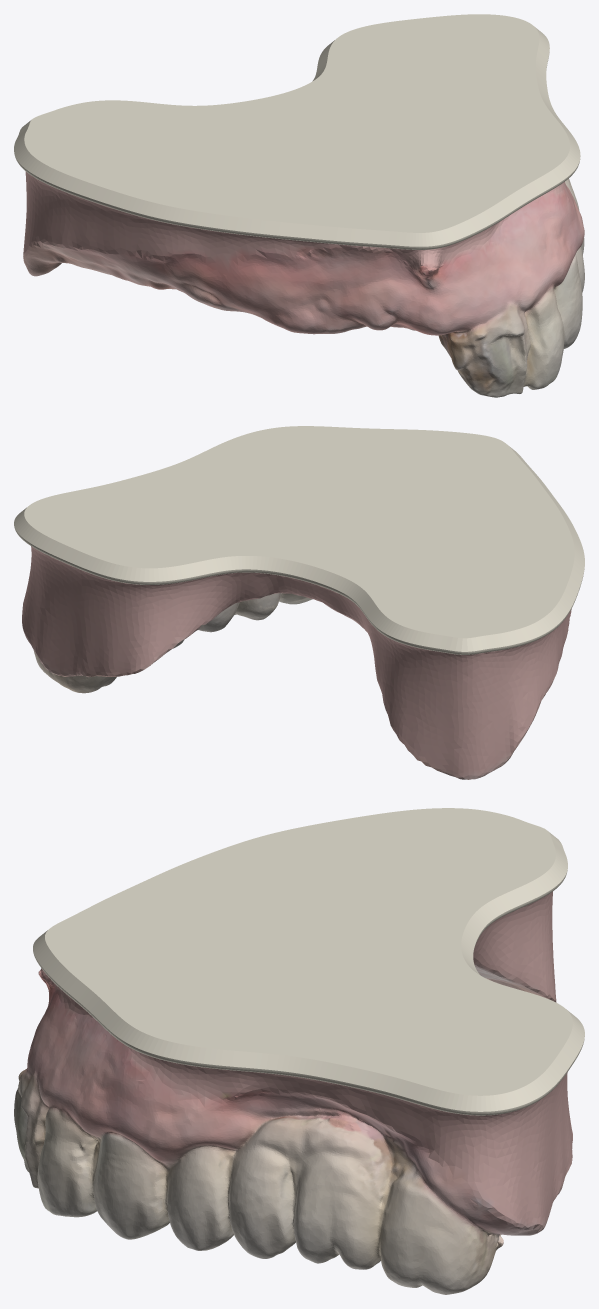
The model's file is upper-6.glb.
The picture shows the model from 3 angles, top to bottom: view 1: azimuth 30°, elevation 25°; view 2: azimuth 150°, elevation 25°; view 3: azimuth 270°, elevation 25°; orthographic projection. The views are drawn at different scales.
Visible parts, largest first — view 1: 6.ply; view 2: 6.ply; view 3: 6.ply.
Part boxes in pixels (x1,y1,x2,y2): 6.ply: [14, 14, 584, 397]; 6.ply: [14, 426, 584, 779]; 6.ply: [14, 808, 584, 1294].
Bounding box in the file's own units: 58.56 × 19.62 × 47.43.
